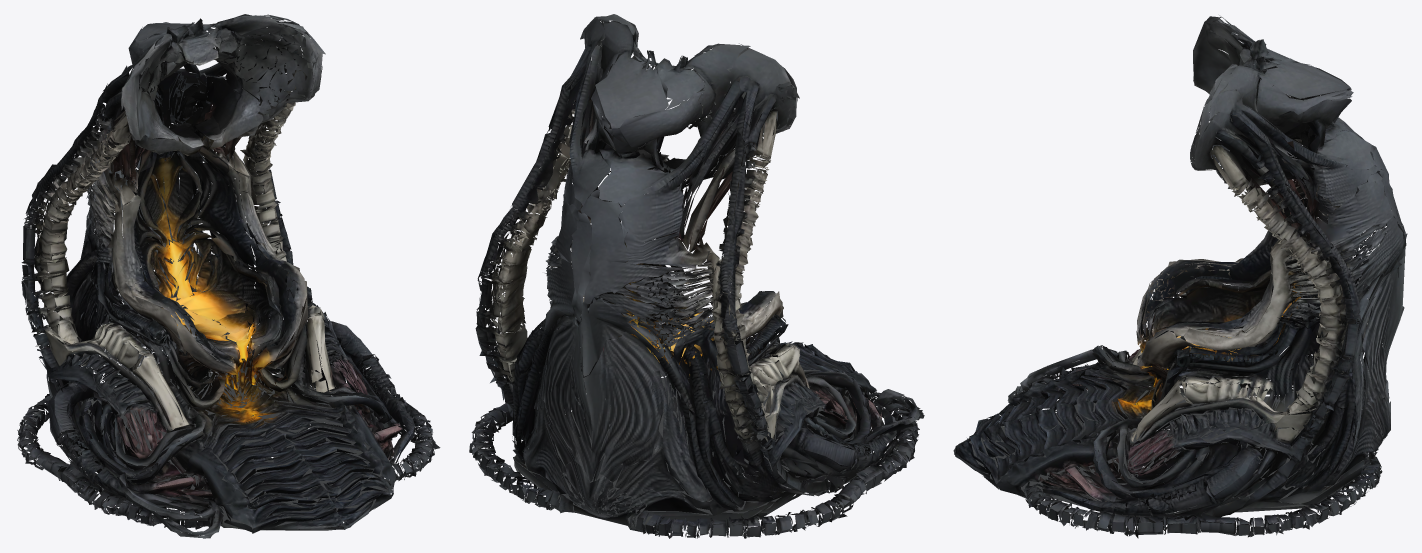
Rendered from queen_royal_brood_throne.glb.
The picture shows the model from 3 angles, left to right: view 1: azimuth 30°, elevation 25°; view 2: azimuth 150°, elevation 25°; view 3: azimuth 270°, elevation 25°; orthographic projection. The views are drawn at different scales.
Visible parts, largest first — view 1: node_0; view 2: node_0; view 3: node_0.
Part boxes in pixels (x1,y1,x2,y2): node_0: (17, 14, 440, 538); node_0: (469, 14, 924, 538); node_0: (953, 15, 1407, 538).
Bounding box in the file's own units: 0.7546 × 0.8643 × 0.8563.
Materials: 1 (1 with a texture image).
